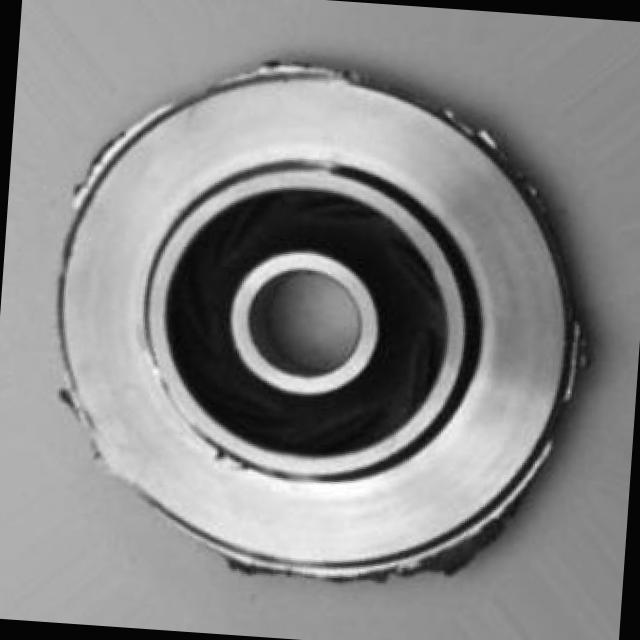Defect: (409, 526, 515, 588)
